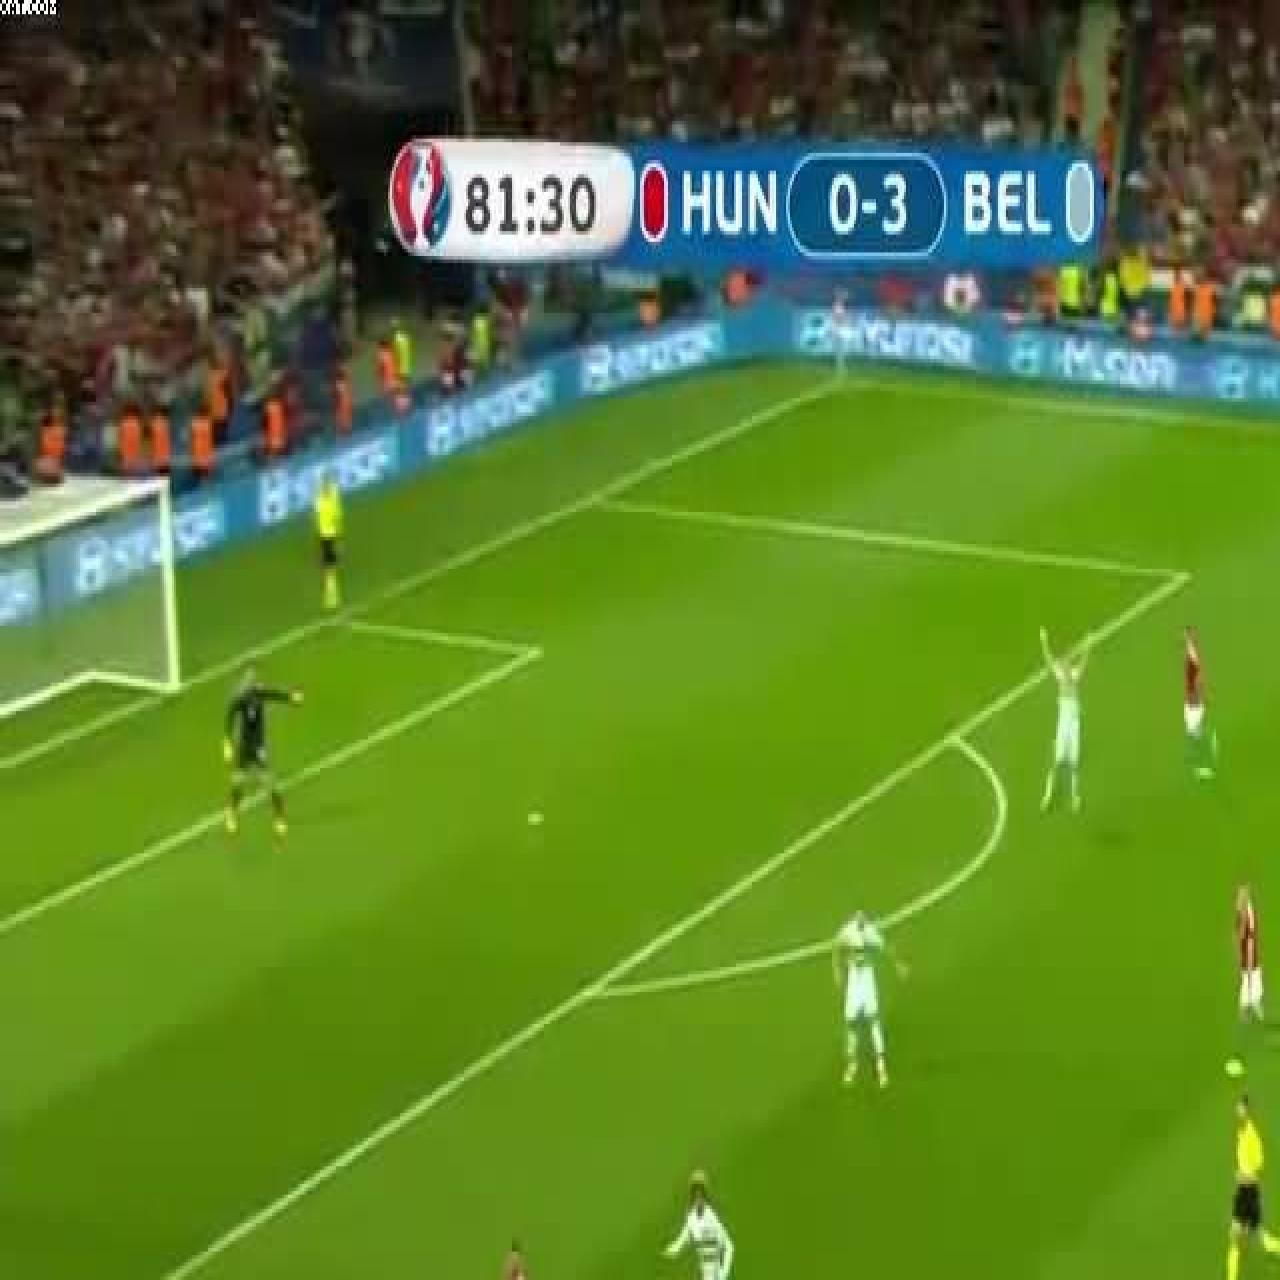football: (833, 904, 907, 1095), (224, 662, 303, 836), (1033, 620, 1091, 814), (1220, 1095, 1280, 1280), (1224, 882, 1280, 1070), (660, 1170, 746, 1280), (1183, 621, 1221, 786), (316, 469, 344, 614), (484, 1244, 576, 1280)
